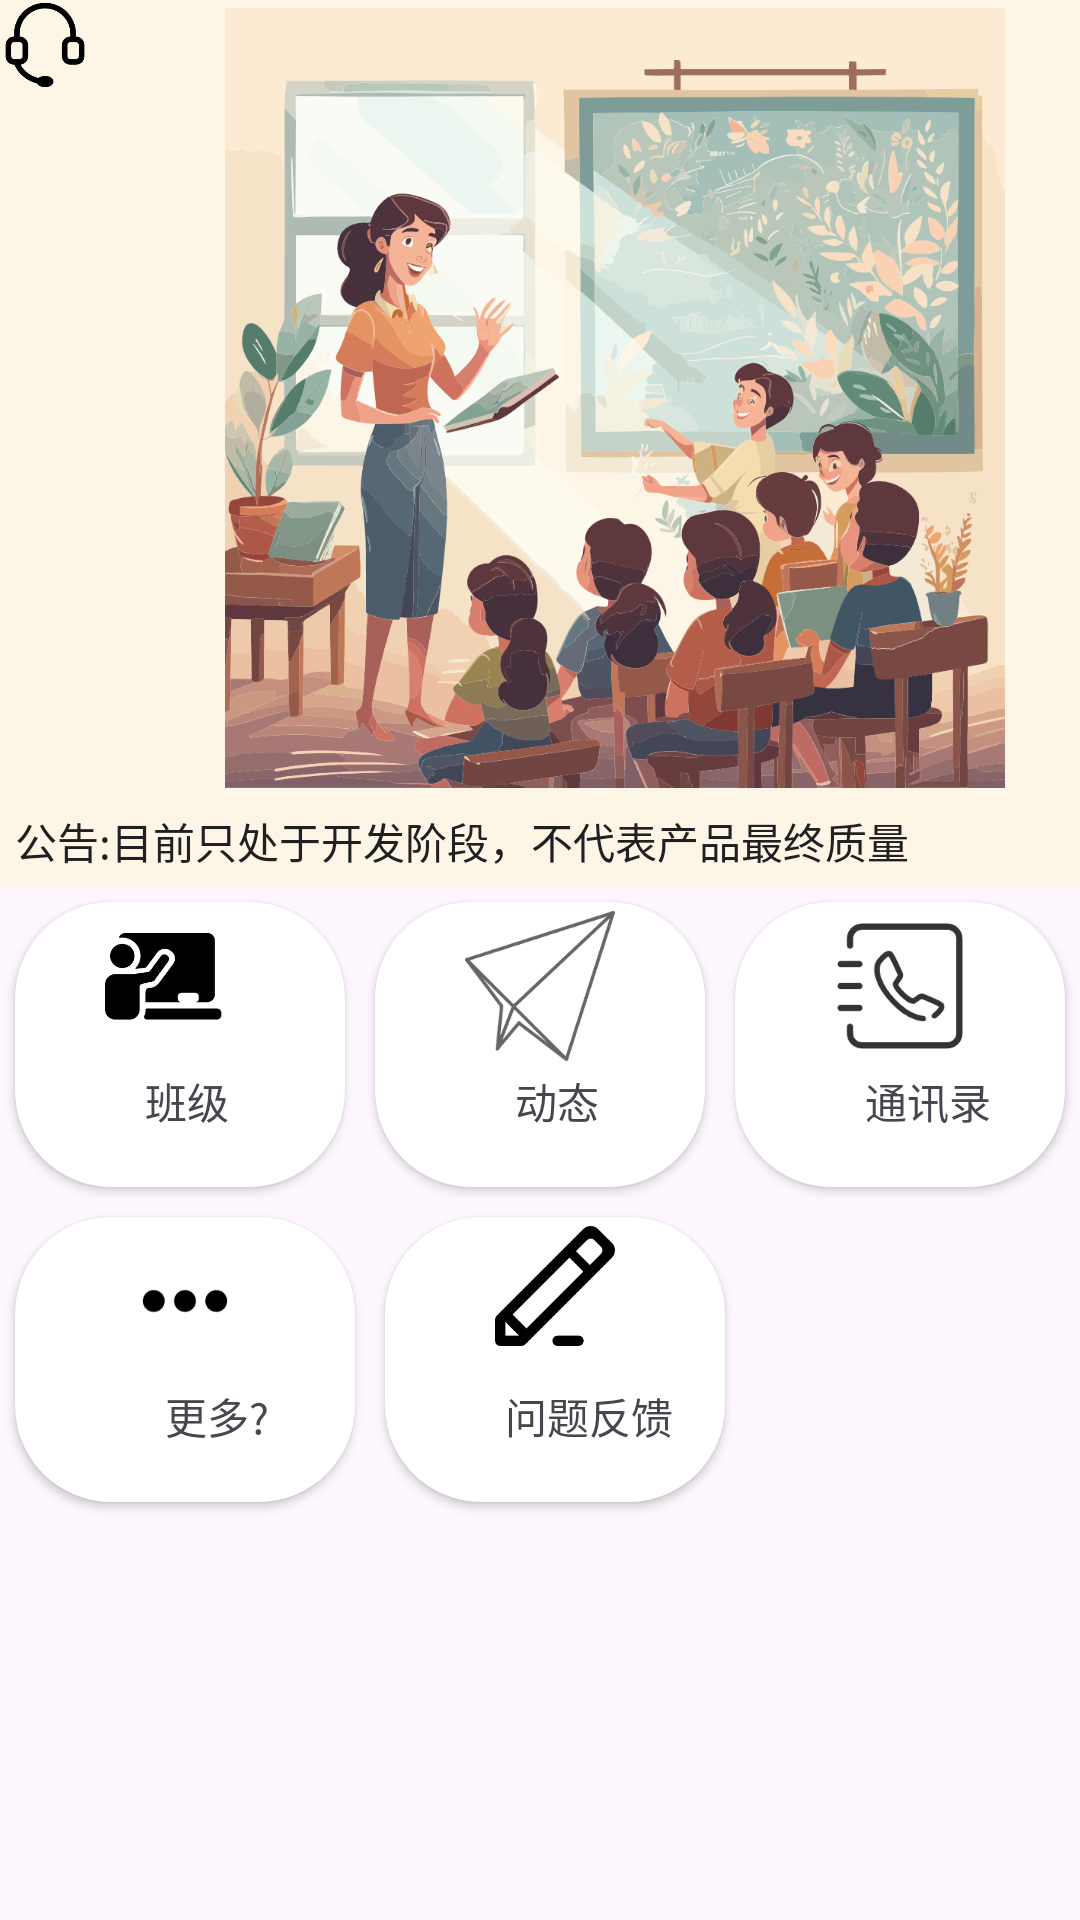

Named icons in this screenshot (1080×1920) and their centers, (x=x, y=y):
calling: (x=900, y=986)
morethings: (x=185, y=1301)
myclass: (x=163, y=976)
problemreport: (x=555, y=1286)
